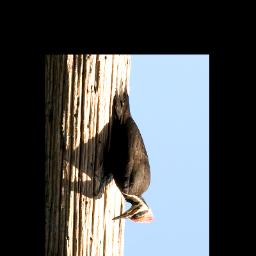Woodpecker: (94, 82, 155, 223)
